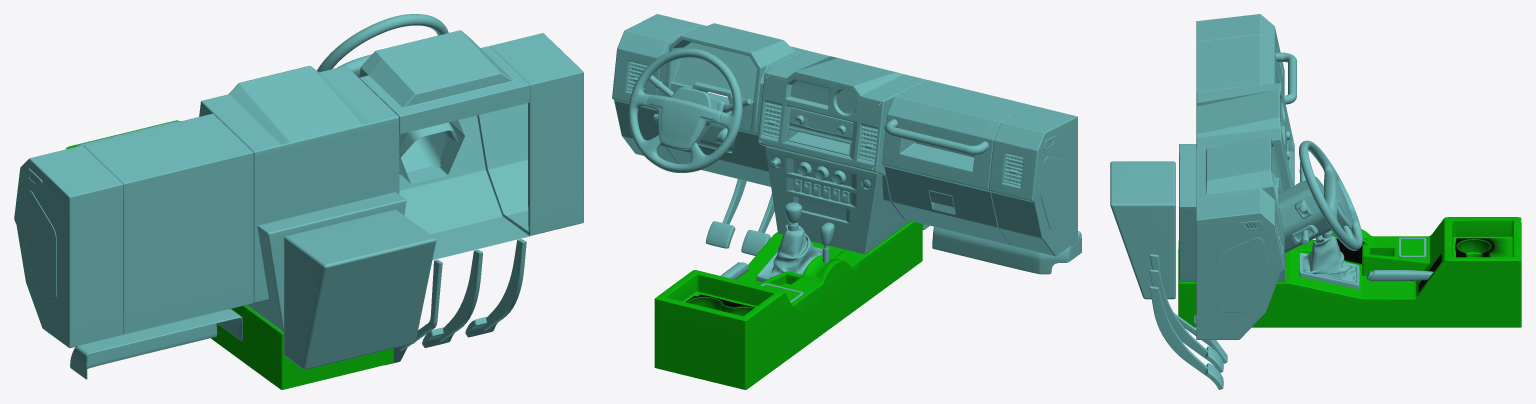
File: FHXY_02BX_A12_ZhongKong_MD_exp.fbx
3 renders of one model, left to right at view 1: azimuth 30°, elevation 25°; view 2: azimuth 150°, elevation 25°; view 3: azimuth 270°, elevation 25°, orthographic. The views are drawn at different scales.
Visible parts, largest first — view 1: FHXY_02BX_A12_ZhongKong_MD_L_3, FHXY_02BX_A12_ZhongKong_MD_L_24, FHXY_02BX_A12_ZhongKong_MD_L_11, FHXY_02BX_A12_ZhongKong_MD_L_10, FHXY_02BX_A12_ZhongKong_MD_L_28, mirrored_x_5, FHXY_02BX_A12_ZhongKong_MD_L_13, FHXY_02BX_A12_ZhongKong_MD_L_1, FHXY_02BX_A12_ZhongKong_MD_L_2, FHXY_02BX_A12_ZhongKong_MD_L_25, mirrored_x_2, FHXY_02BX_A12_ZhongKong_MD_L_9 (+1 smaller); view 2: FHXY_02BX_A12_ZhongKong_MD_L_13, FHXY_02BX_A12_ZhongKong_MD_L_24, FHXY_02BX_A12_ZhongKong_MD_L_11, FHXY_02BX_A12_ZhongKong_MD_L_3, mirrored_x_5, FHXY_02BX_A12_ZhongKong_MD_L_1, FHXY_02BX_A12_ZhongKong_MD_L_9, FHXY_02BX_A12_ZhongKong_MD_L_26, FHXY_02BX_A12_ZhongKong_MD_L_28, FHXY_02BX_A12_ZhongKong_MD_L_2, FHXY_02BX_A12_ZhongKong_MD_L_5, FHXY_02BX_A12_ZhongKong_MD_L_25 (+10 smaller); view 3: FHXY_02BX_A12_ZhongKong_MD_L_13, FHXY_02BX_A12_ZhongKong_MD_L_28, FHXY_02BX_A12_ZhongKong_MD_L_10, FHXY_02BX_A12_ZhongKong_MD_L_24, FHXY_02BX_A12_ZhongKong_MD_L_11, FHXY_02BX_A12_ZhongKong_MD_L_3, FHXY_02BX_A12_ZhongKong_MD_L_30, FHXY_02BX_A12_ZhongKong_MD_L_25, FHXY_02BX_A12_ZhongKong_MD_L_9, FHXY_02BX_A12_ZhongKong_MD_L_1, FHXY_02BX_A12_ZhongKong_MD_L_12, mirrored_x_5 (+5 smaller).
Boxes of the visible parts, x1,y1,x2,y2 form: FHXY_02BX_A12_ZhongKong_MD_L_3: (83, 113, 253, 334); FHXY_02BX_A12_ZhongKong_MD_L_24: (199, 65, 399, 302); FHXY_02BX_A12_ZhongKong_MD_L_11: (359, 30, 529, 260); FHXY_02BX_A12_ZhongKong_MD_L_10: (284, 209, 436, 369); FHXY_02BX_A12_ZhongKong_MD_L_28: (477, 33, 583, 235); mirrored_x_5: (14, 145, 123, 347); FHXY_02BX_A12_ZhongKong_MD_L_13: (66, 120, 393, 389); FHXY_02BX_A12_ZhongKong_MD_L_1: (247, 192, 406, 332); FHXY_02BX_A12_ZhongKong_MD_L_2: (70, 309, 242, 379); FHXY_02BX_A12_ZhongKong_MD_L_25: (385, 239, 526, 365); mirrored_x_2: (23, 190, 56, 301); FHXY_02BX_A12_ZhongKong_MD_L_9: (317, 14, 448, 76); FHXY_02BX_A12_ZhongKong_MD_L_13: (654, 221, 922, 389); FHXY_02BX_A12_ZhongKong_MD_L_24: (757, 51, 926, 219); FHXY_02BX_A12_ZhongKong_MD_L_11: (657, 23, 807, 186); FHXY_02BX_A12_ZhongKong_MD_L_3: (882, 80, 1032, 191); mirrored_x_5: (988, 106, 1077, 256); FHXY_02BX_A12_ZhongKong_MD_L_1: (765, 146, 910, 254); FHXY_02BX_A12_ZhongKong_MD_L_9: (628, 48, 742, 172); FHXY_02BX_A12_ZhongKong_MD_L_26: (884, 166, 1010, 245); FHXY_02BX_A12_ZhongKong_MD_L_28: (612, 14, 700, 163); FHXY_02BX_A12_ZhongKong_MD_L_2: (932, 226, 1081, 274); FHXY_02BX_A12_ZhongKong_MD_L_5: (787, 107, 853, 155); FHXY_02BX_A12_ZhongKong_MD_L_25: (705, 179, 774, 255); FHXY_02BX_A12_ZhongKong_MD_L_13: (1178, 217, 1521, 327); FHXY_02BX_A12_ZhongKong_MD_L_28: (1196, 192, 1284, 339); FHXY_02BX_A12_ZhongKong_MD_L_10: (1110, 161, 1175, 299); FHXY_02BX_A12_ZhongKong_MD_L_24: (1196, 83, 1294, 191); FHXY_02BX_A12_ZhongKong_MD_L_11: (1196, 137, 1284, 247); FHXY_02BX_A12_ZhongKong_MD_L_3: (1196, 35, 1284, 95); FHXY_02BX_A12_ZhongKong_MD_L_30: (1216, 237, 1268, 312); FHXY_02BX_A12_ZhongKong_MD_L_25: (1149, 254, 1227, 389); FHXY_02BX_A12_ZhongKong_MD_L_9: (1299, 140, 1362, 250); FHXY_02BX_A12_ZhongKong_MD_L_1: (1179, 153, 1285, 281); FHXY_02BX_A12_ZhongKong_MD_L_12: (1278, 176, 1331, 252); mirrored_x_5: (1196, 14, 1284, 90).
Bounding box in the file's own units: 156 × 85.74 × 136.
